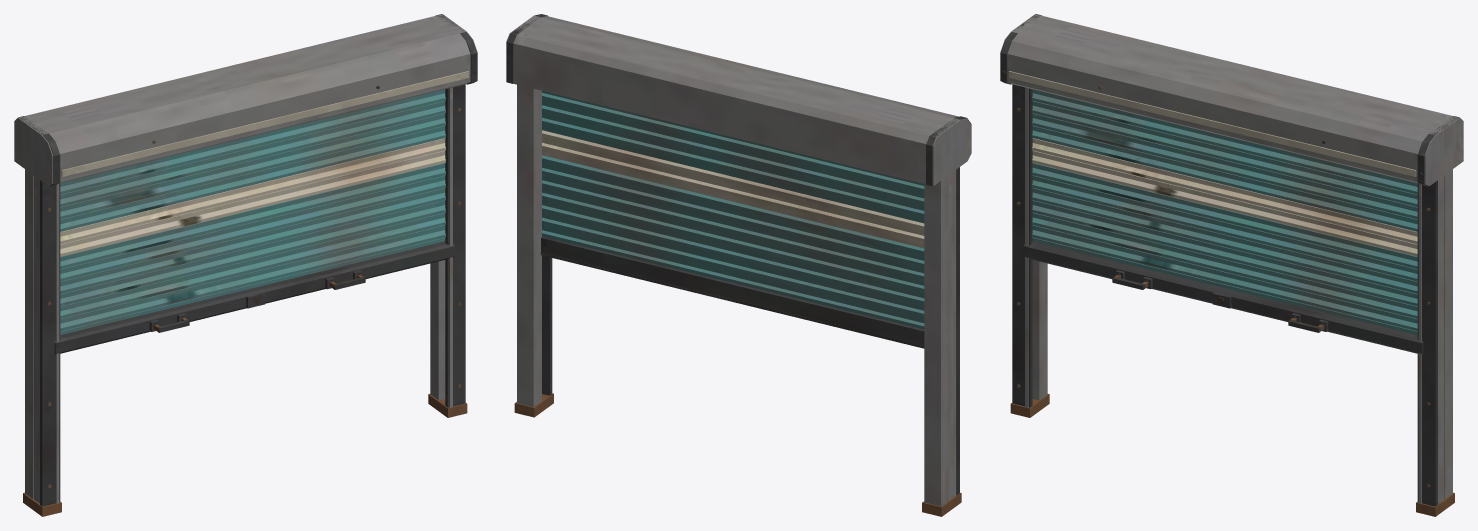
File: W14_shop_shutter_v1.glb
3 views of the same model, side by side, from view 1: azimuth 30°, elevation 25°; view 2: azimuth 150°, elevation 25°; view 3: azimuth 330°, elevation 25° (orthographic).
Parts seen in each view (by area): view 1: Shop shutter; view 2: Shop shutter; view 3: Shop shutter.
Part boxes in pixels (bbox=[...]): Shop shutter: bbox=[14, 14, 477, 516]; Shop shutter: bbox=[506, 14, 971, 516]; Shop shutter: bbox=[1000, 14, 1463, 516].
Size of the model in its own units: 3 by 2.57 by 0.487.
7 materials, 7 textured.
